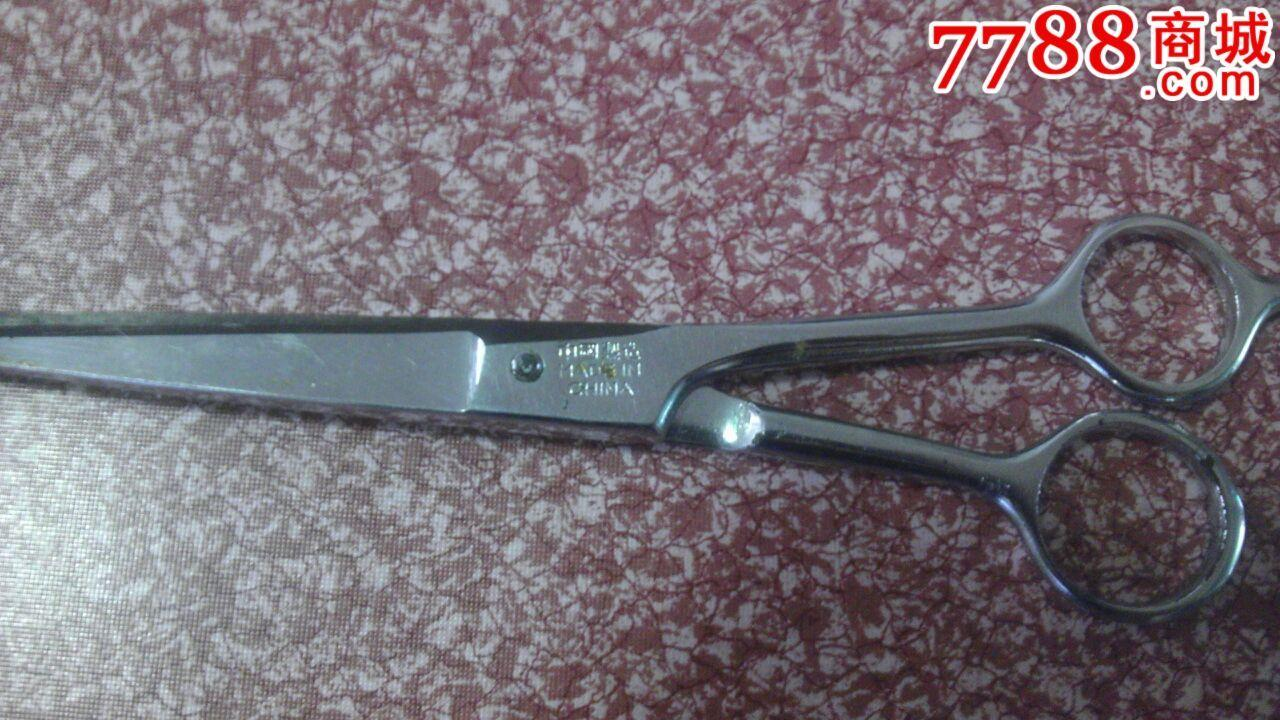scissor: (1, 172, 1244, 697)
